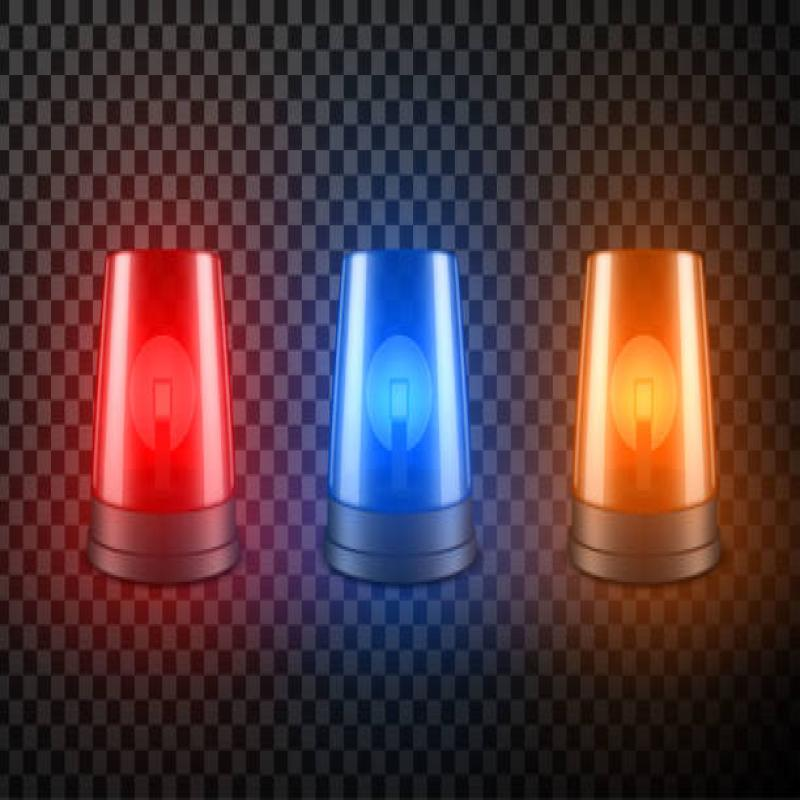AmbulanceSiren: (302, 217, 513, 610), (551, 197, 740, 606), (68, 218, 238, 598)
